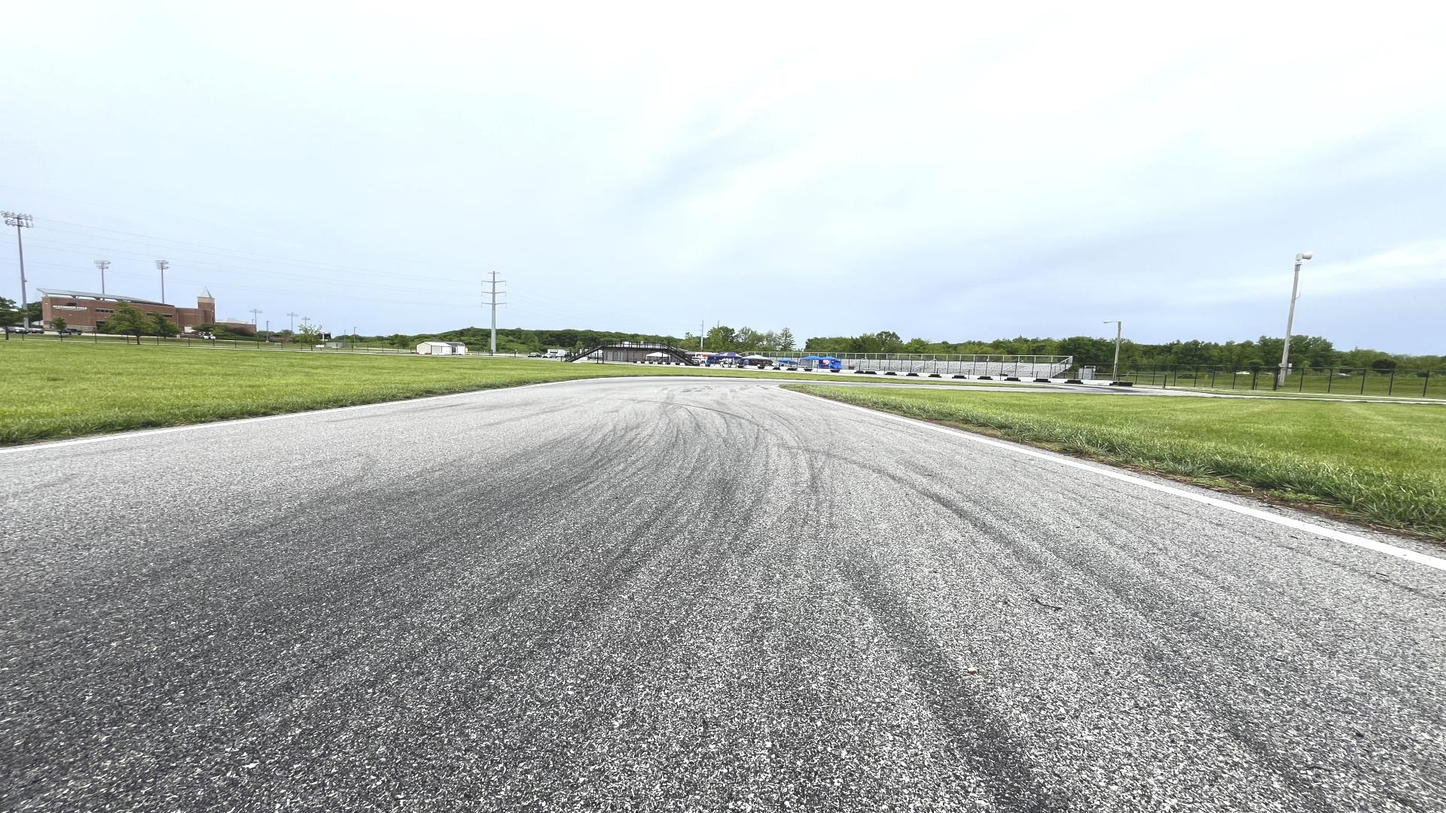white-line: (770, 385, 1445, 571), (0, 377, 660, 455)
